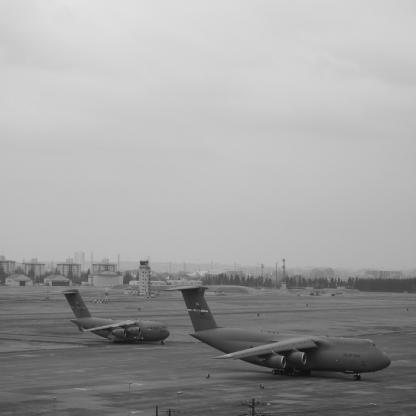C17: (52, 289, 171, 346)
C5: (166, 286, 392, 382)
